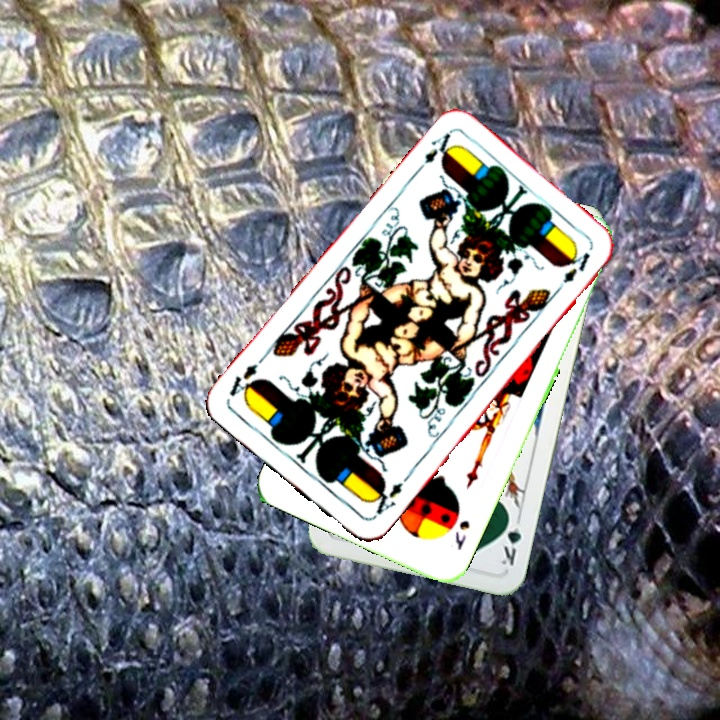EA: (411, 128, 458, 177), (365, 471, 411, 521)
GK: (496, 511, 524, 569)
SK: (451, 516, 473, 553)
